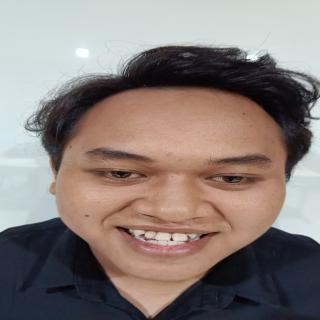Senang: (50, 77, 291, 285)
